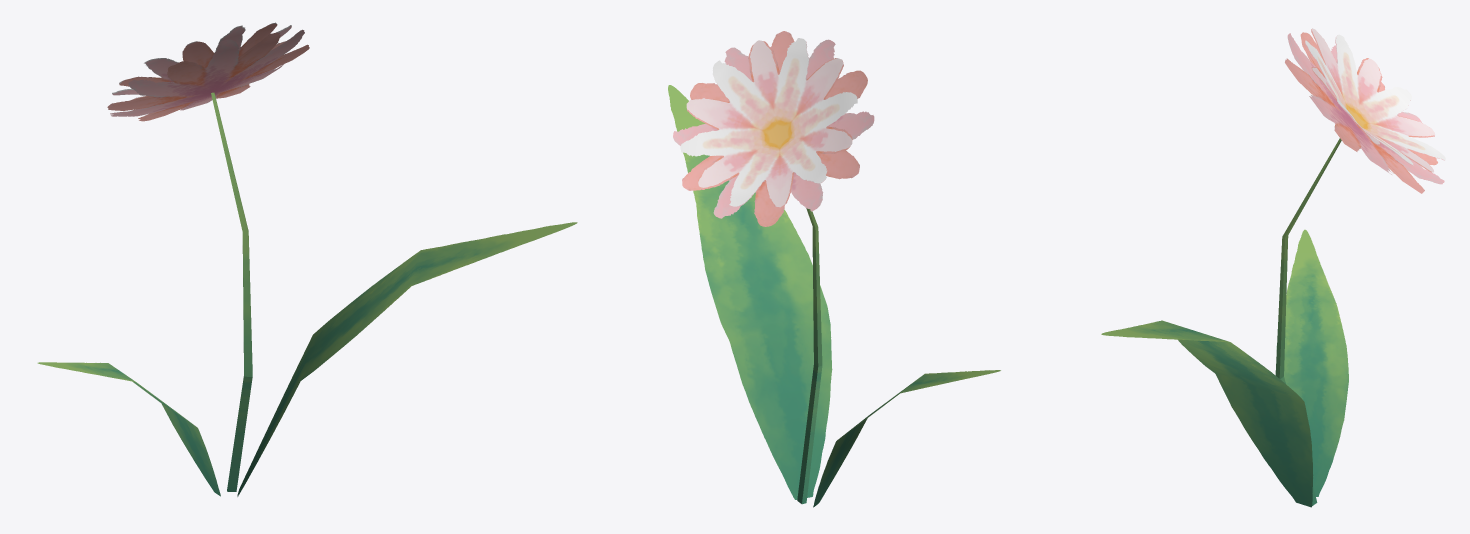
File: Asset_FleurB_01.fbx
3 views of the same model, side by side, from view 1: azimuth 30°, elevation 25°; view 2: azimuth 150°, elevation 25°; view 3: azimuth 270°, elevation 25° (orthographic).
Visible parts, largest first — view 1: Asset_FleurB_01; view 2: Asset_FleurB_01; view 3: Asset_FleurB_01.
Boxes of the visible parts, left/top/right/bottom form: Asset_FleurB_01: left=37, top=22, right=577, bottom=496; Asset_FleurB_01: left=668, top=31, right=1000, bottom=507; Asset_FleurB_01: left=1101, top=28, right=1445, bottom=507.
Size of the model in its own units: 201 by 192 by 151.
Materials: 1 (1 with a texture image).
